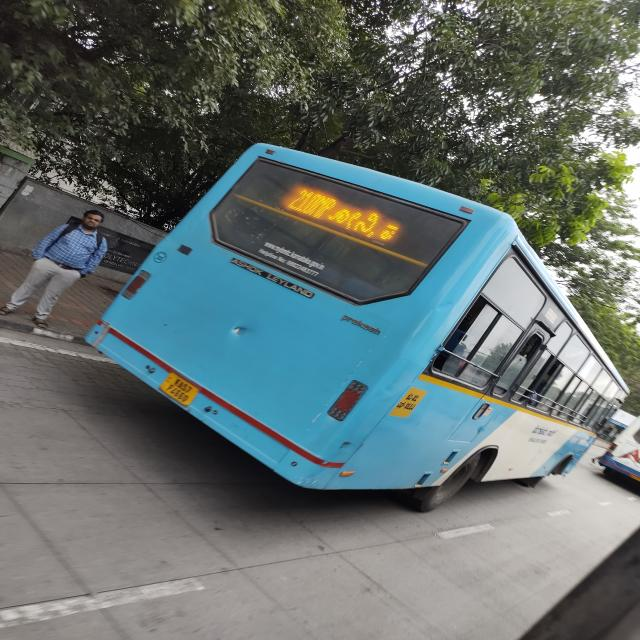bus: (89, 128, 624, 520)
display: (284, 178, 404, 238)
dnumber: (289, 182, 335, 218)
